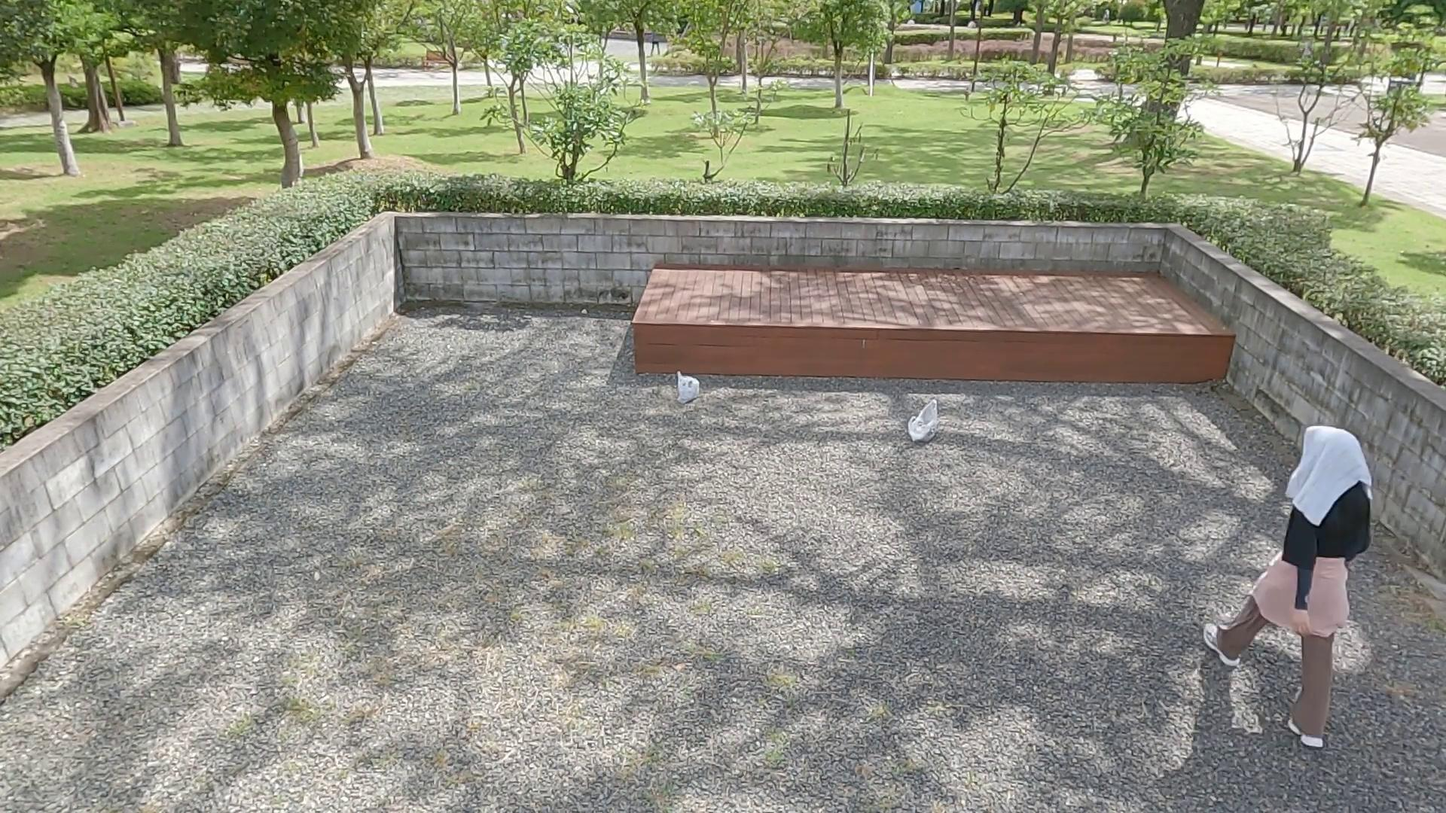person: (1200, 423, 1374, 753)
trash: (909, 399, 940, 442), (676, 369, 702, 404)
